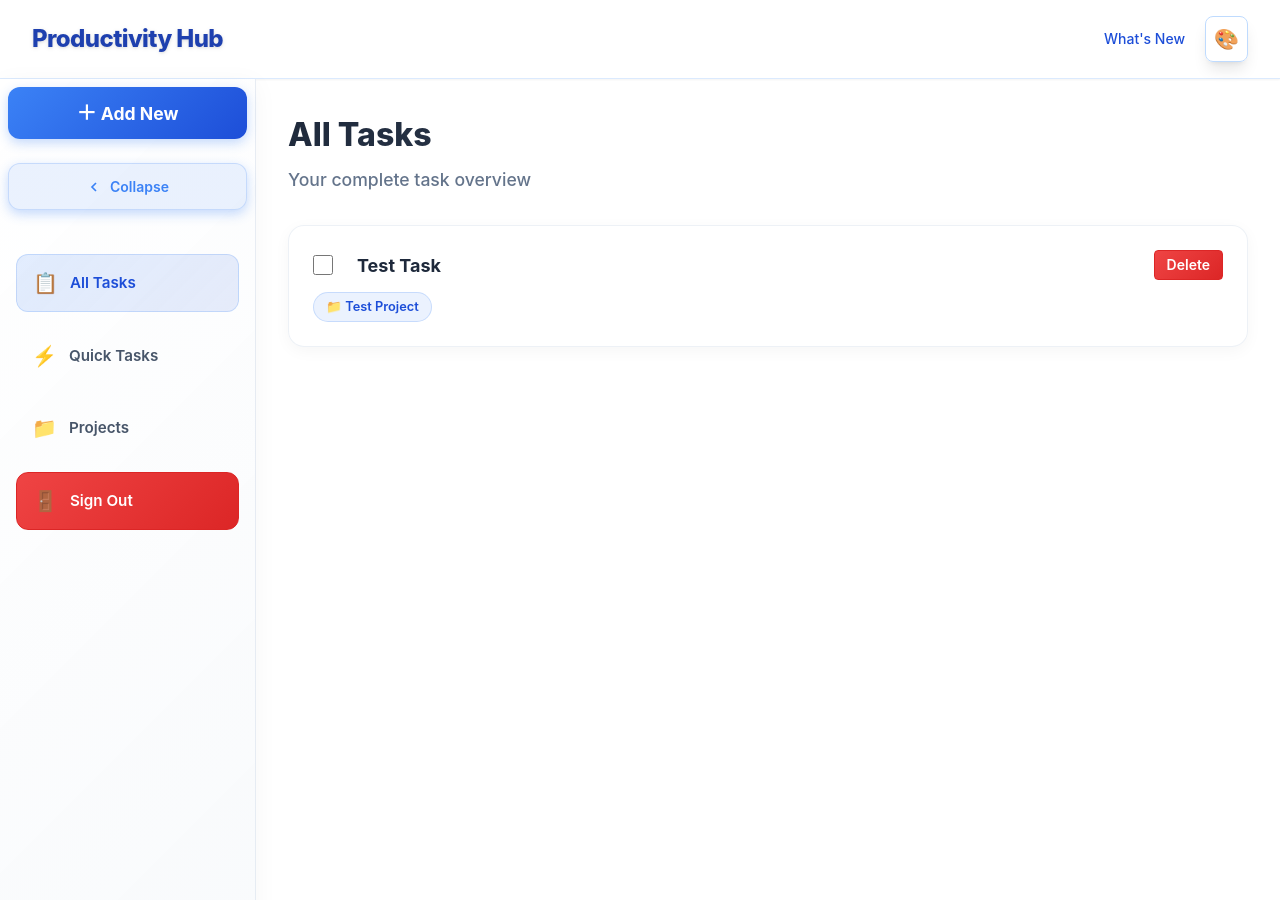
Test case: Task Form › handles task completion toggling
Click the button "📁 Projects" at (128, 428), box [16, 400, 239, 456]
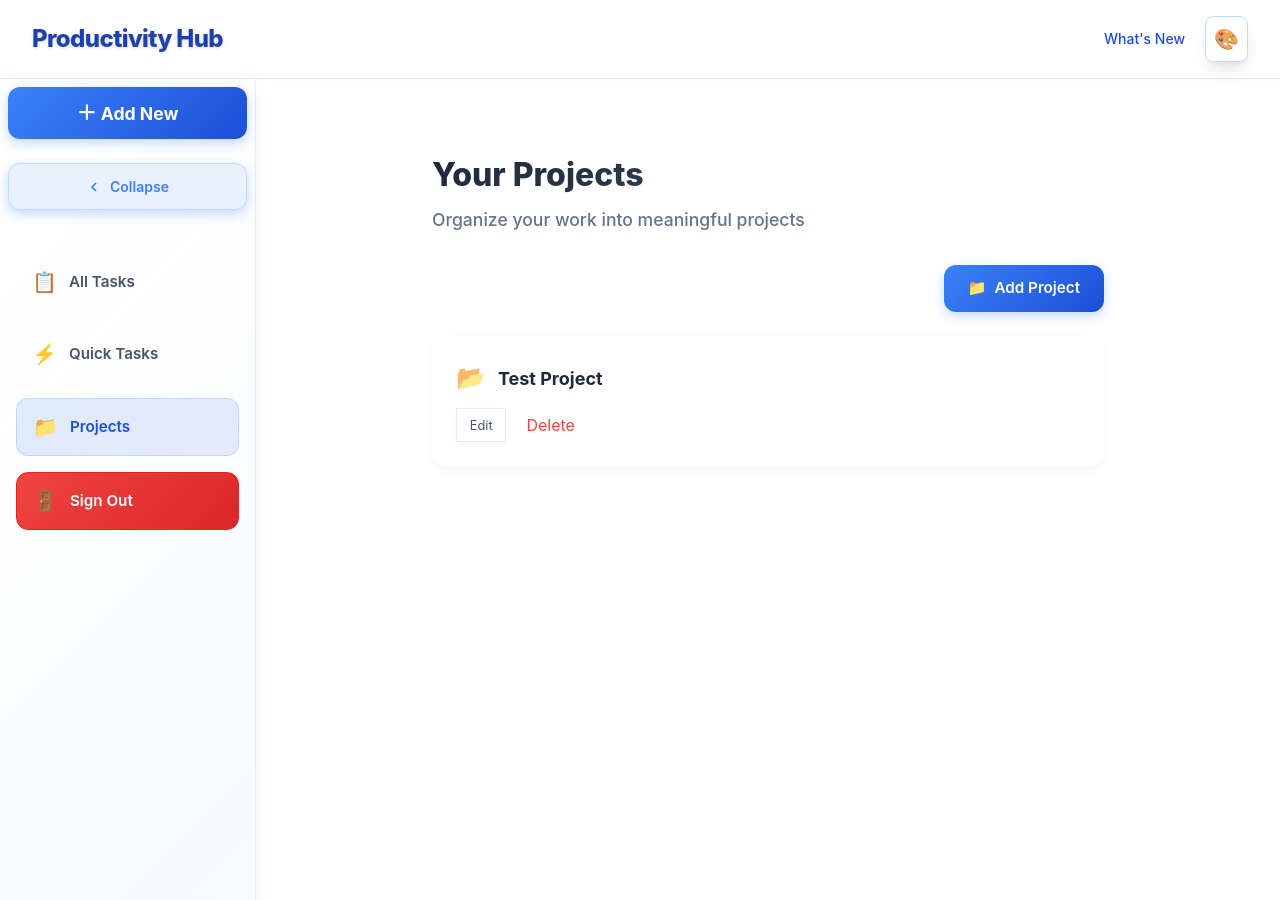
Click the text "Test Project" at (550, 378), box [498, 368, 603, 389]
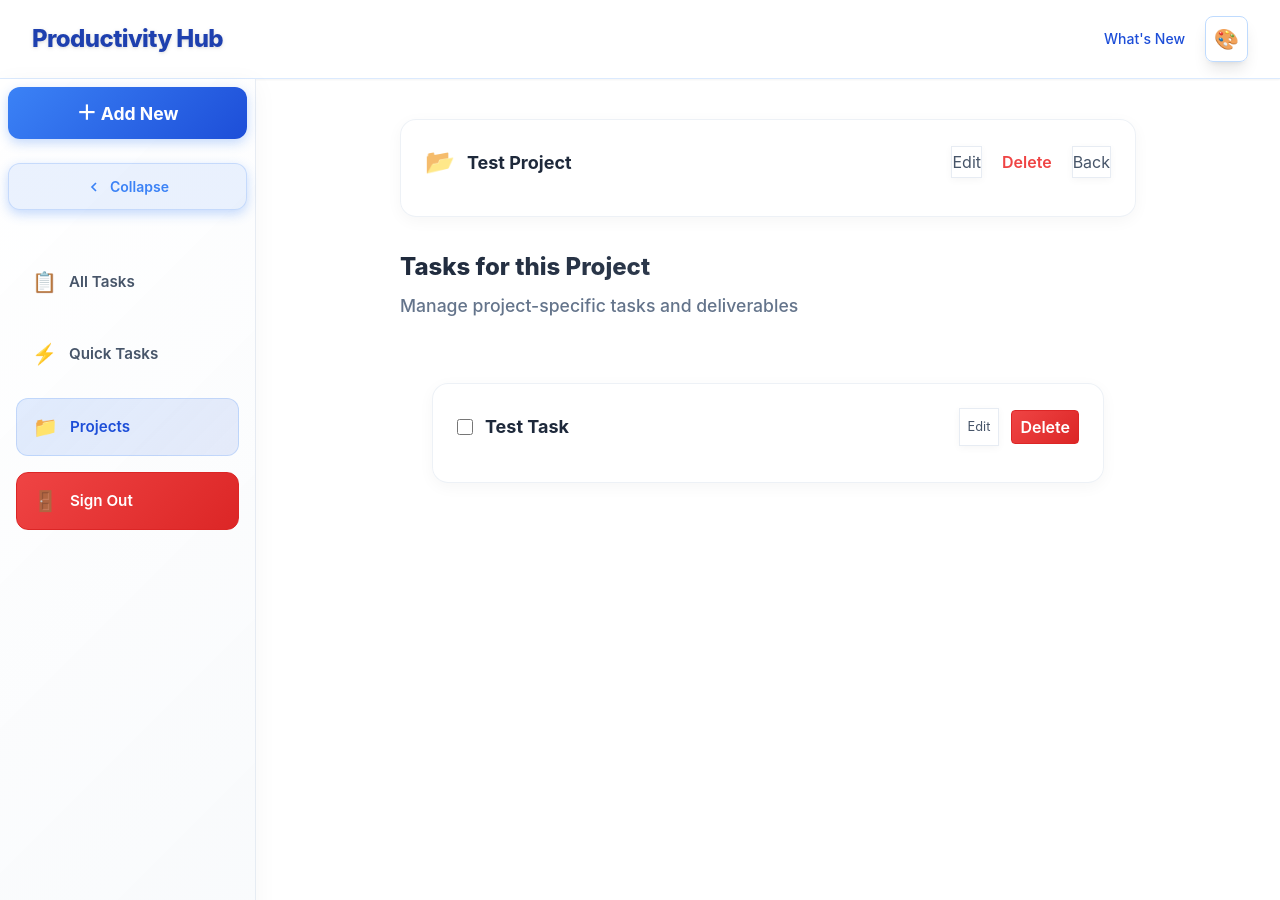
Expected: the checkbox is shown
Click the checkbox at (465, 427), box [457, 419, 473, 435]
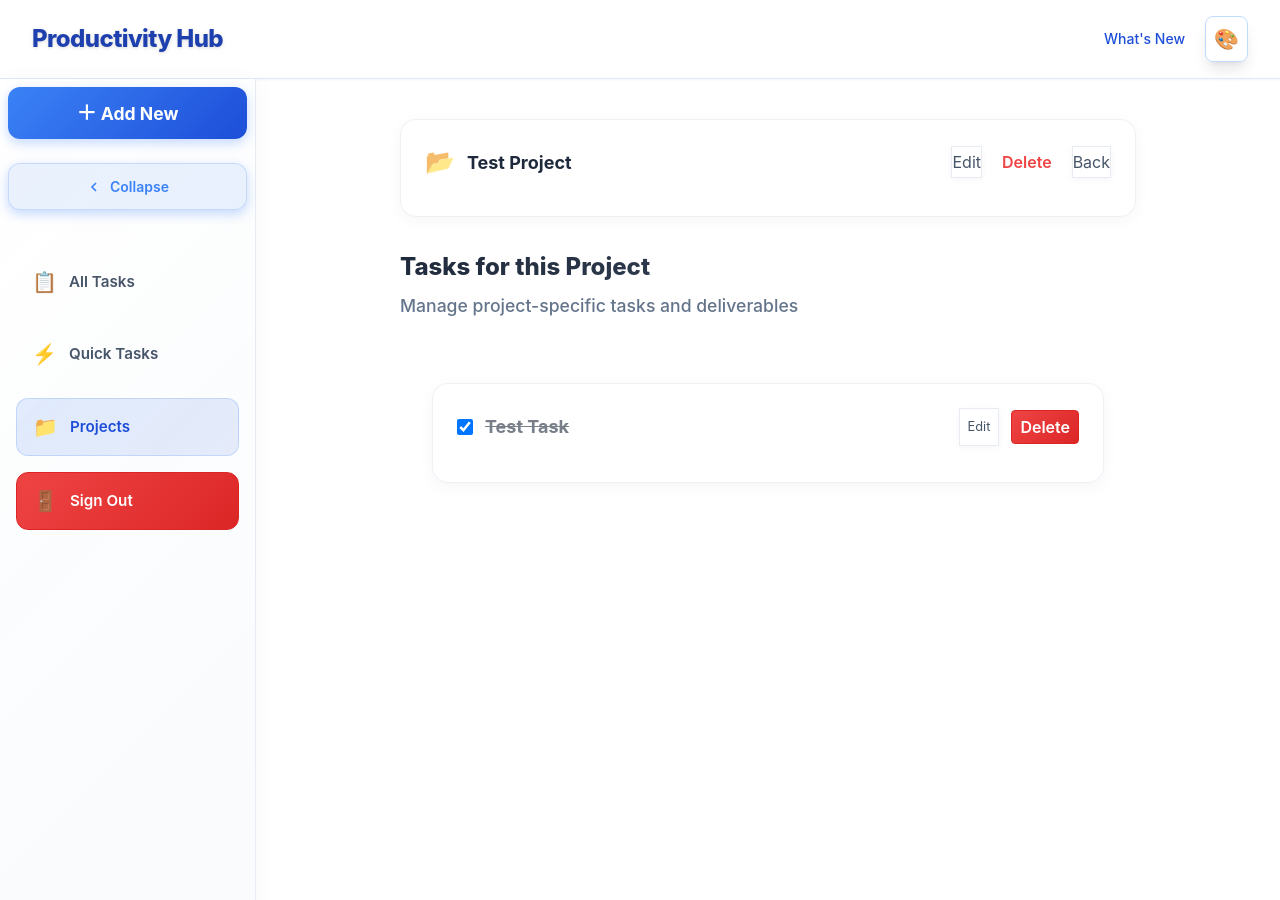
Expected: the checkbox is checked, [457, 419, 473, 435]
